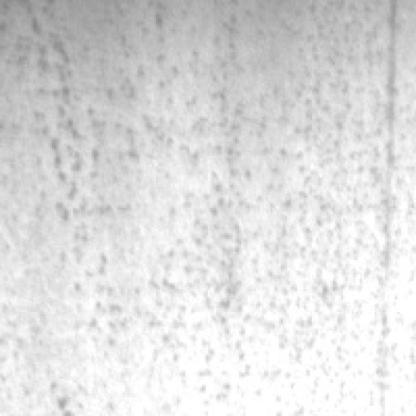pitted_surface: (12, 0, 416, 397)
